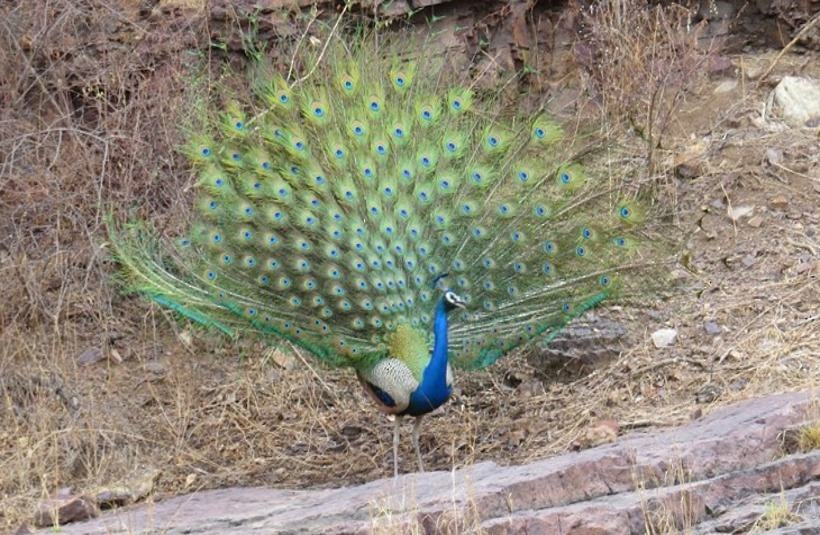peacock: (107, 39, 639, 456)
